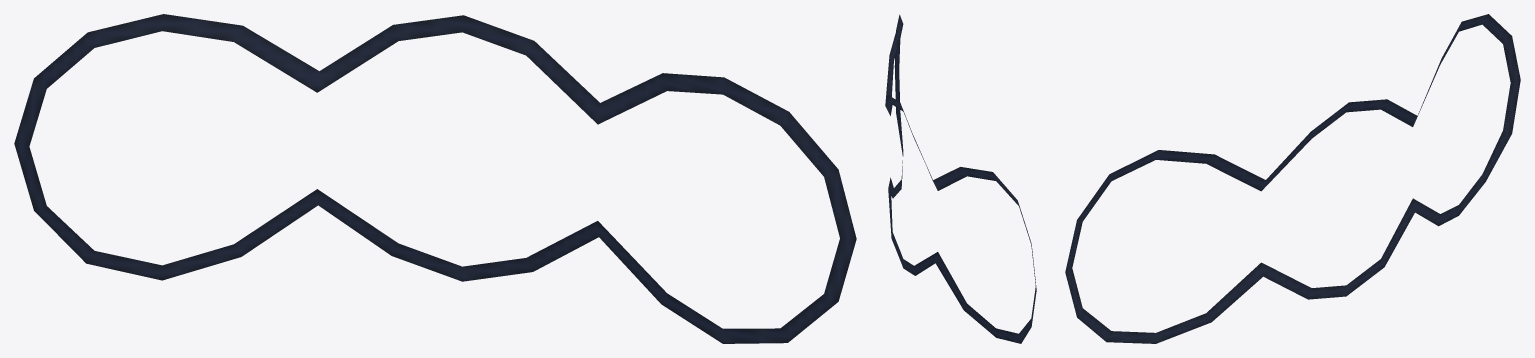
File: stunEngines.fbx
The picture shows the model from 3 angles, left to right: view 1: azimuth 30°, elevation 25°; view 2: azimuth 150°, elevation 25°; view 3: azimuth 270°, elevation 25°; orthographic projection. The views are drawn at different scales.
Parts seen in each view (by area): view 1: polySurface76; view 2: polySurface76; view 3: polySurface76.
Part boxes in pixels (left/top/right/bottom): polySurface76: left=14, top=14, right=856, bottom=343; polySurface76: left=885, top=14, right=1036, bottom=343; polySurface76: left=1065, top=14, right=1520, bottom=343.
Bounding box in the file's own units: 19.94 × 9.43 × 19.94.
